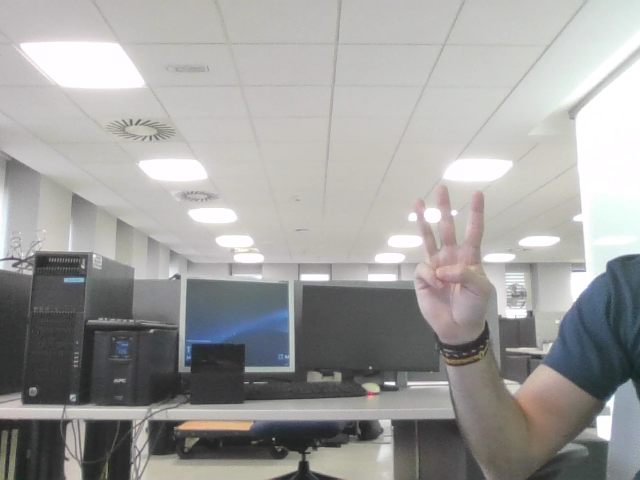3Dedos: (422, 196, 480, 310)
